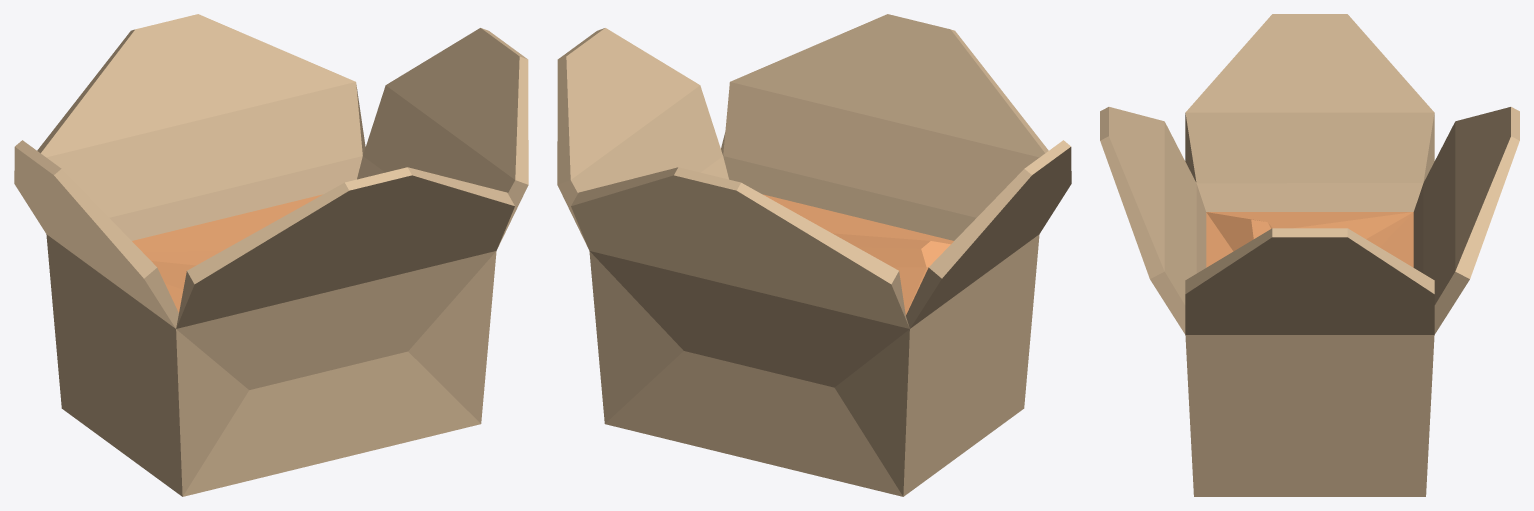
Rendered from container-take.glb.
3 renders of one model, left to right at view 1: azimuth 30°, elevation 25°; view 2: azimuth 150°, elevation 25°; view 3: azimuth 270°, elevation 25°, orthographic. The views are drawn at different scales.
Parts seen in each view (by area): view 1: container-take; view 2: container-take; view 3: container-take.
Part boxes in pixels (x1=…): container-take: x1=14, y1=14, x2=528, y2=496; container-take: x1=557, y1=14, x2=1071, y2=496; container-take: x1=1100, y1=14, x2=1519, y2=496.
Size of the model in its own units: 0.2775 by 0.178 by 0.2214.
1 material, 1 textured.
